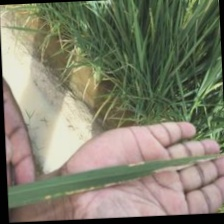Leaf_Blast: (40, 177, 156, 199), (124, 156, 164, 169)
